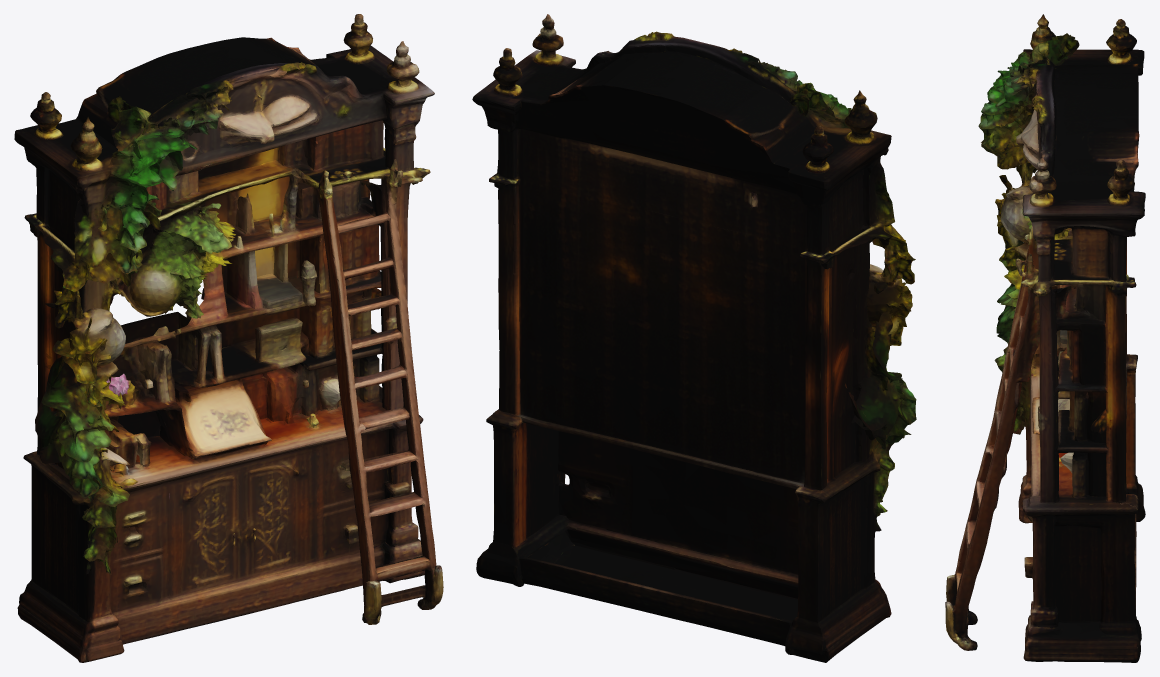
File: original-regal.glb
3 renders of one model, left to right at view 1: azimuth 30°, elevation 25°; view 2: azimuth 150°, elevation 25°; view 3: azimuth 270°, elevation 25°, orthographic. The views are drawn at different scales.
Parts seen in each view (by area): view 1: world; view 2: world; view 3: world.
Boxes of the visible parts, x1,y1,x2,y2 form: world: (14,14,443,662); world: (472,14,916,662); world: (945,14,1145,662).
Size of the model in its own units: 0.7408 by 1 by 0.3596.
Materials: 1 (1 with a texture image).
